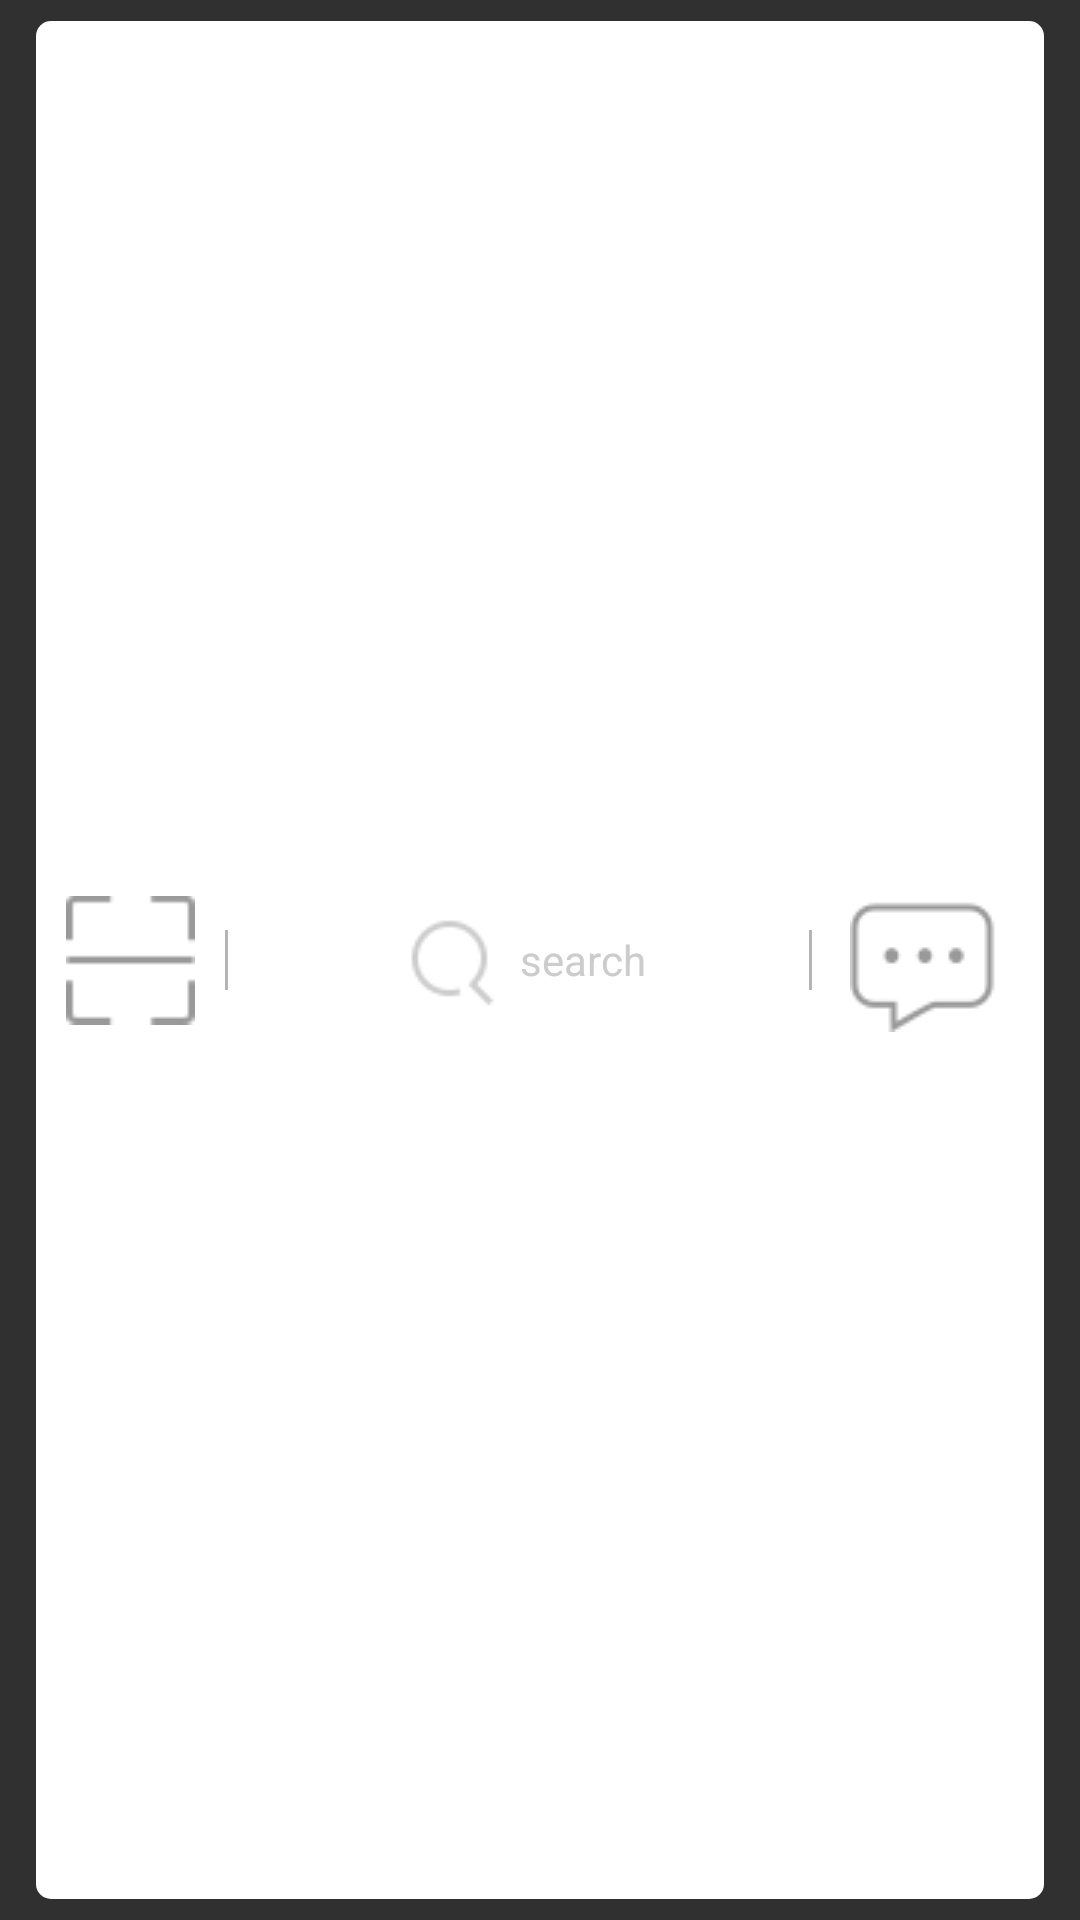

Locate icon controls on the screen. Image size 1080*1920, boxes as [x1, y1, x2, y2].
home scanner: [66, 896, 195, 1025]
message box: [850, 903, 994, 1032]
